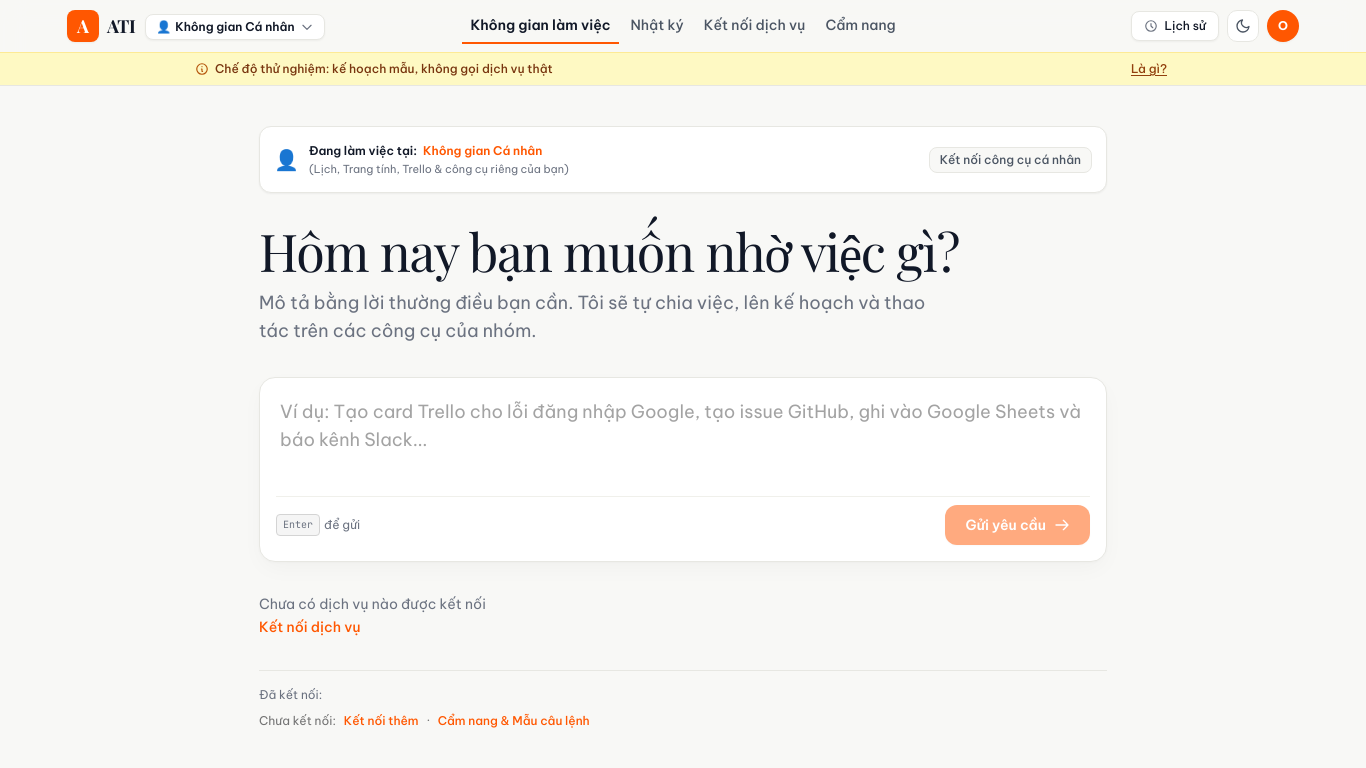
puts selected history in the URL and clears it when browser Back returns home
This screenshot has width=1366, height=768.
Click the button with aria-label "Mở danh sách hội thoại" at point(1175, 26), box [1131, 11, 1219, 41]
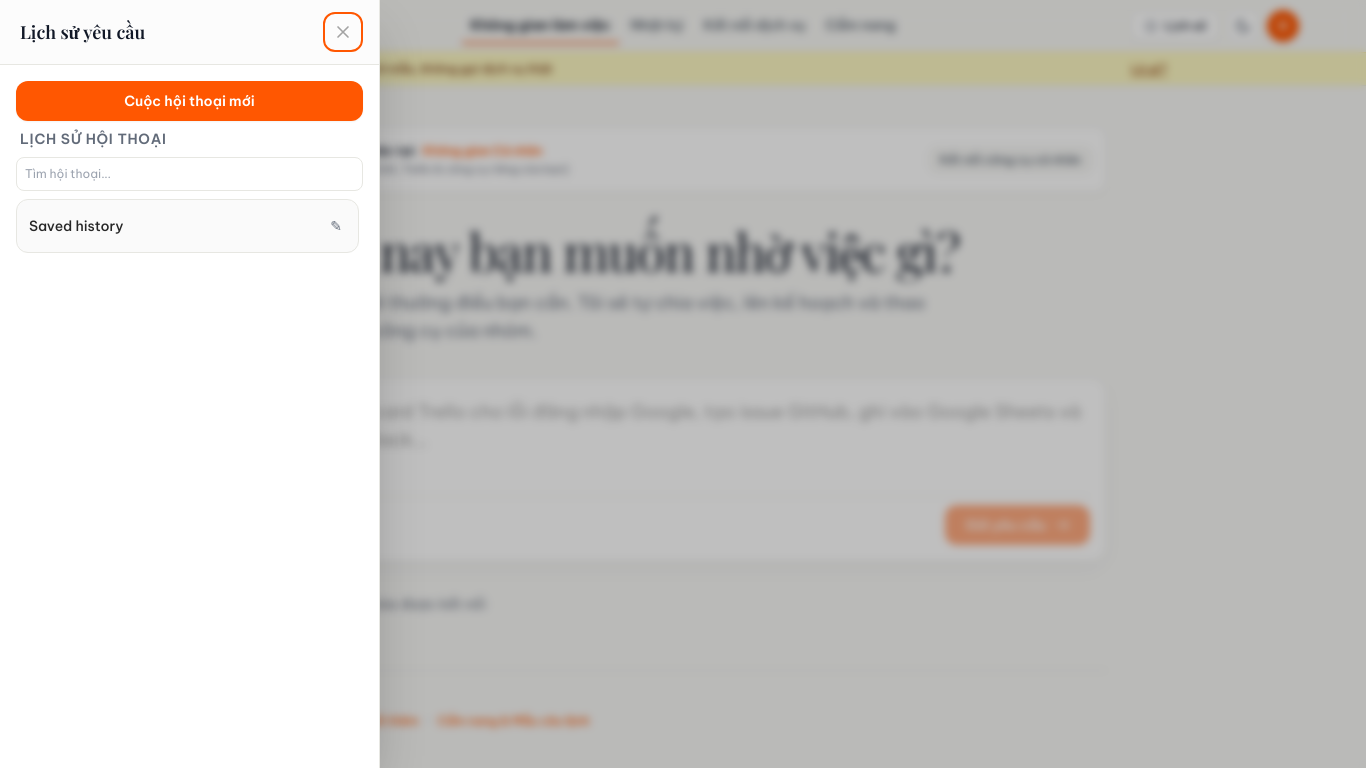
Click the button "Saved history" at point(76, 226), box [29, 212, 322, 236]
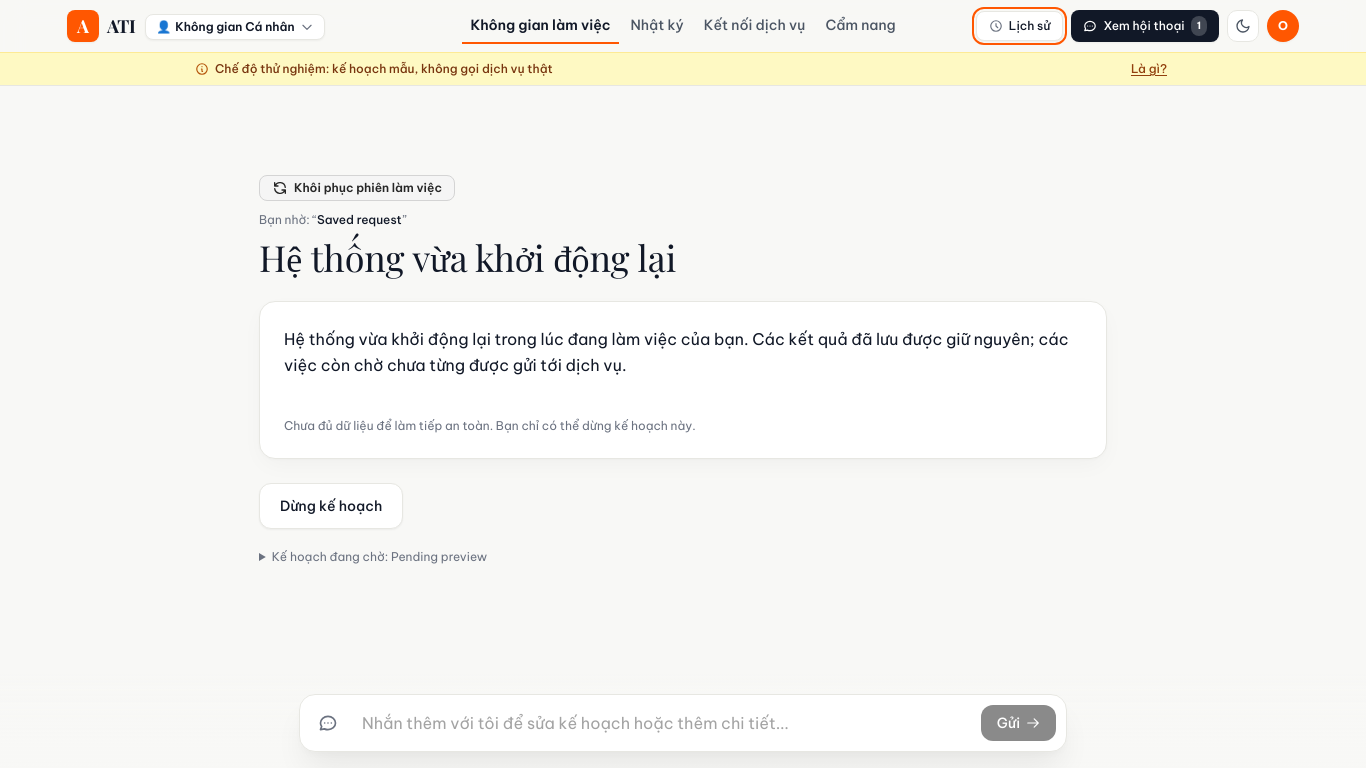
Now the text "Saved request" is shown, box [317, 212, 402, 227]
